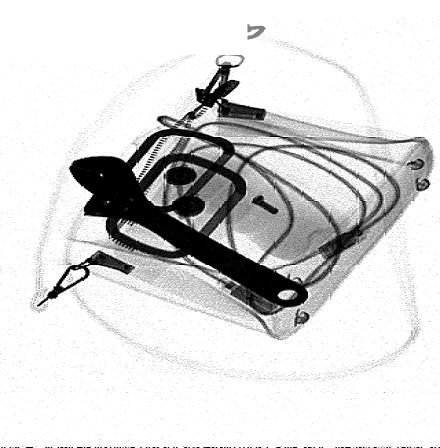Wrench: (70, 157, 311, 308)
